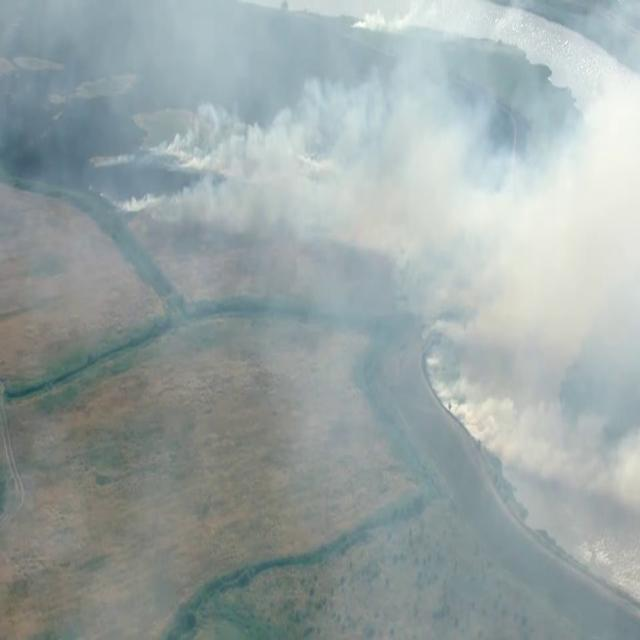Smoke: (486, 280, 579, 387)
